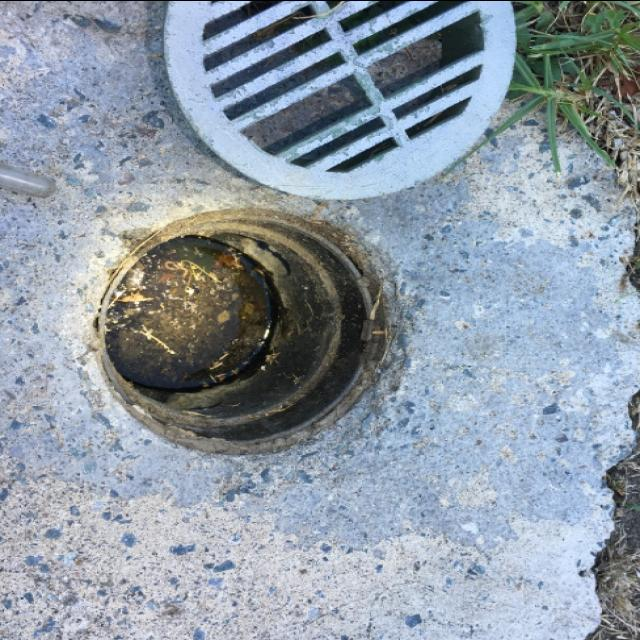Breeding Place: (89, 210, 383, 456)
